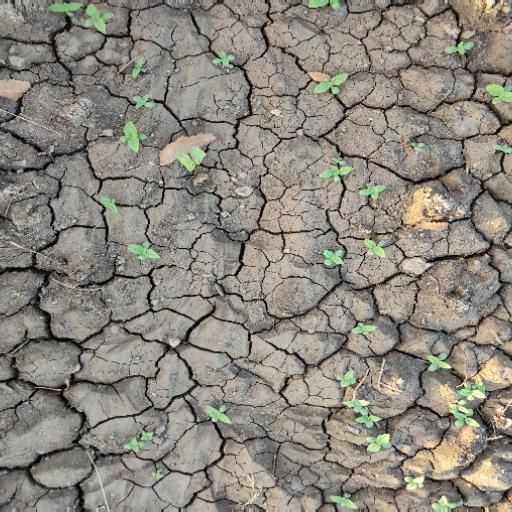crop: (337, 370, 396, 460), (430, 356, 492, 430), (321, 151, 386, 210), (35, 1, 128, 41), (98, 89, 151, 154), (323, 228, 390, 275), (299, 64, 351, 100), (123, 240, 163, 264), (204, 400, 236, 427)
